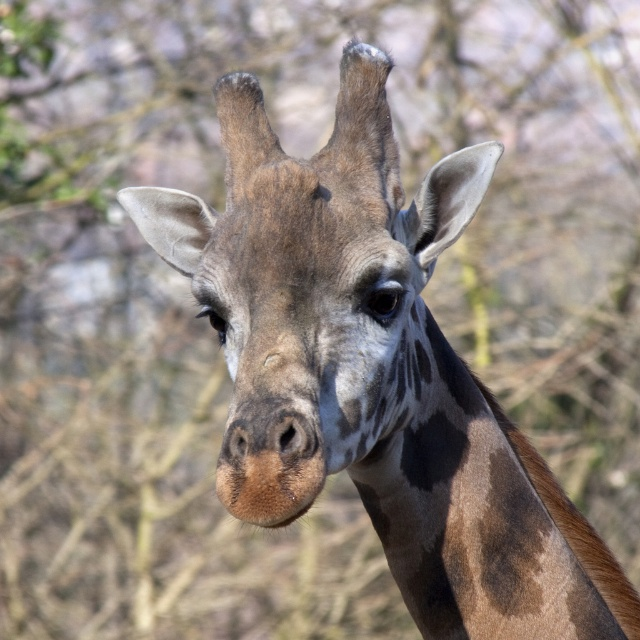Giraffe: (124, 59, 640, 640)
